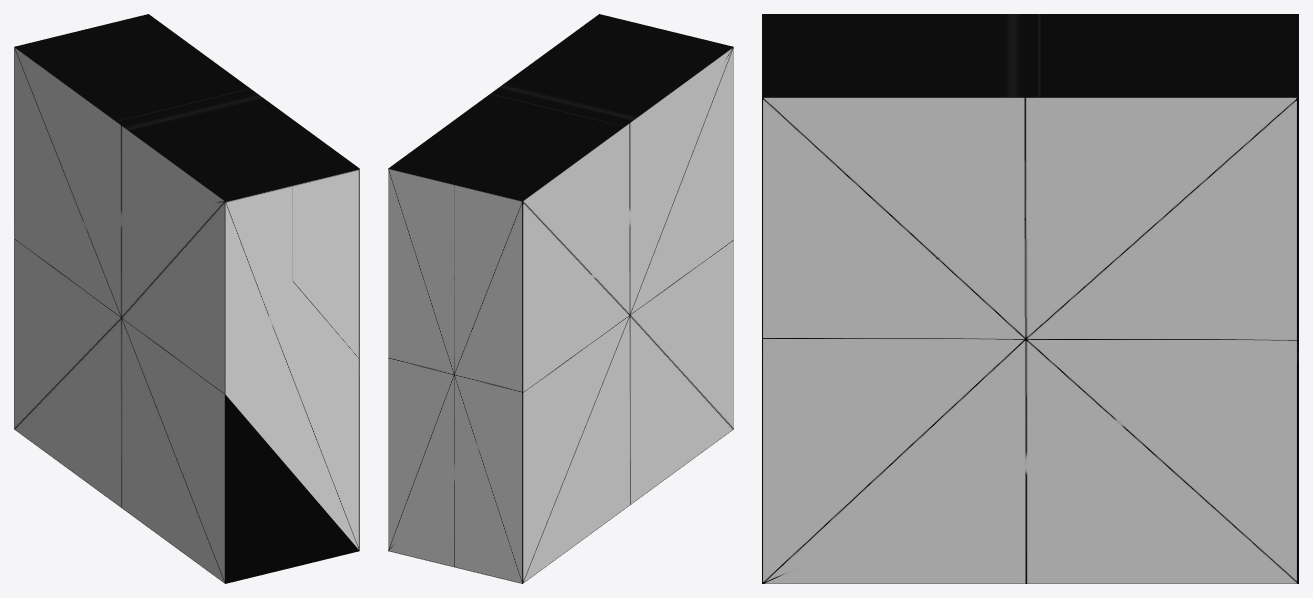
File: EspacioPirateriaPuertaExteriorNS.gltf
The picture shows the model from 3 angles, left to right: view 1: azimuth 30°, elevation 25°; view 2: azimuth 150°, elevation 25°; view 3: azimuth 270°, elevation 25°; orthographic projection. The views are drawn at different scales.
Parts seen in each view (by area): view 1: Cubo.34; view 2: Cubo.34; view 3: Cubo.34.
Boxes of the visible parts, left/top/right/bottom form: Cubo.34: left=14, top=14, right=359, bottom=583; Cubo.34: left=388, top=14, right=733, bottom=583; Cubo.34: left=762, top=14, right=1298, bottom=583.
Size of the model in its own units: 0.7352 by 2 by 2.
Materials: 1 (1 with a texture image).
